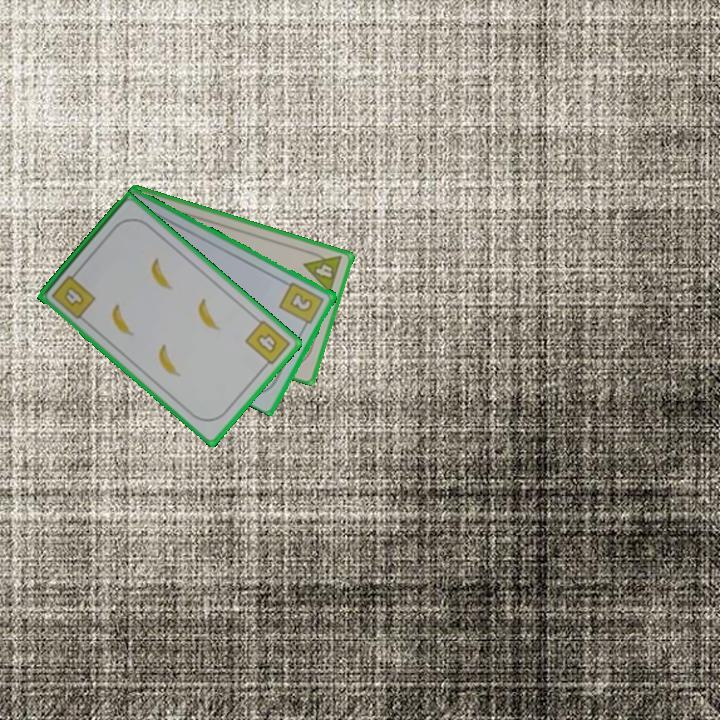2b: (276, 279, 327, 331)
4b: (241, 316, 293, 372), (48, 267, 99, 322)
4p: (300, 247, 345, 296)
